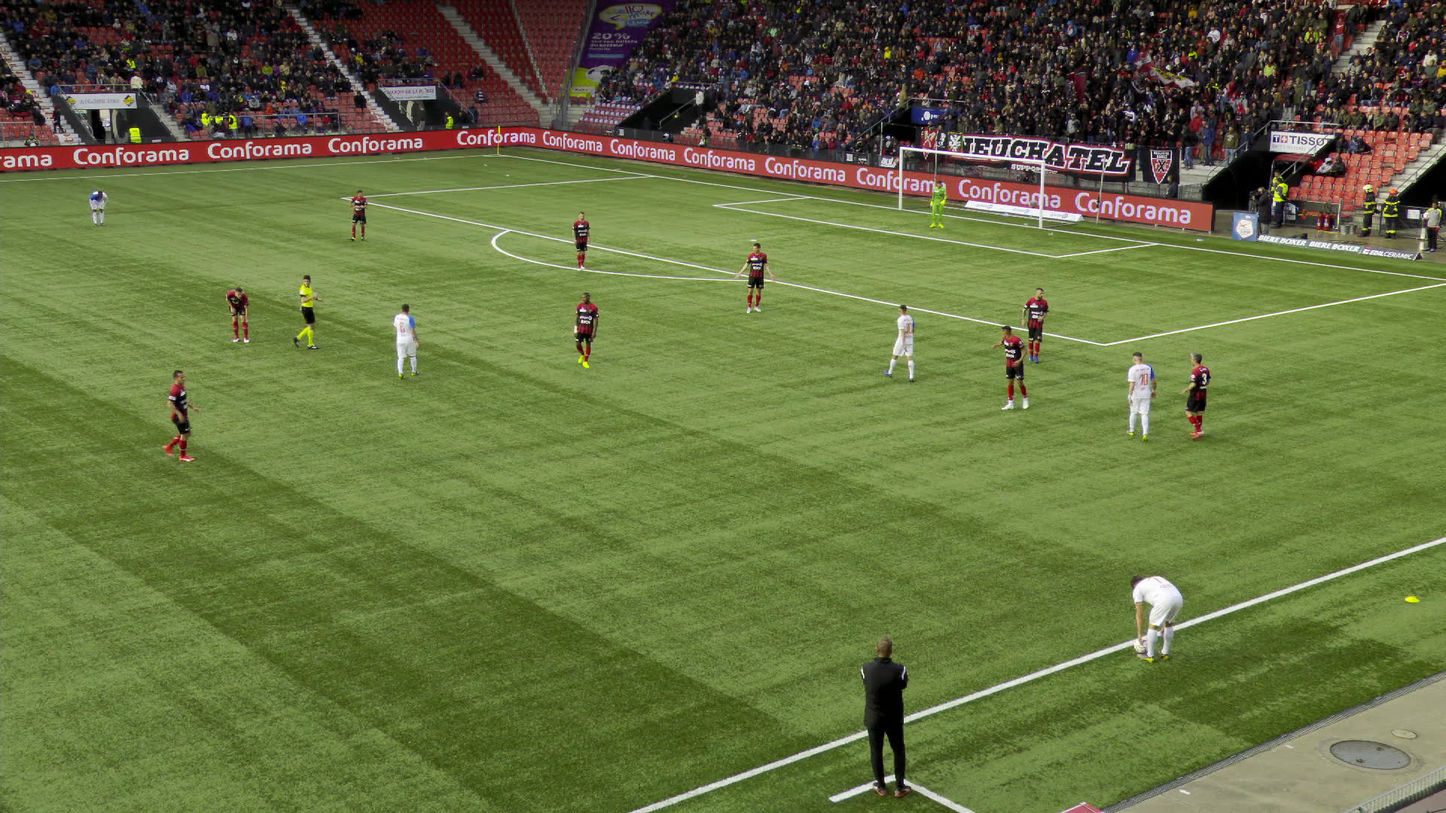ball: (1133, 635, 1146, 650)
player: (1130, 576, 1183, 663), (155, 370, 203, 462), (992, 324, 1031, 410), (1124, 352, 1157, 442), (734, 242, 776, 312), (1180, 352, 1210, 440), (886, 303, 917, 381), (1021, 288, 1049, 364), (392, 303, 419, 379), (572, 292, 599, 368), (224, 284, 249, 343), (572, 211, 590, 270), (927, 180, 946, 229), (349, 190, 367, 241), (89, 190, 107, 226)
referee: (291, 276, 325, 350)
